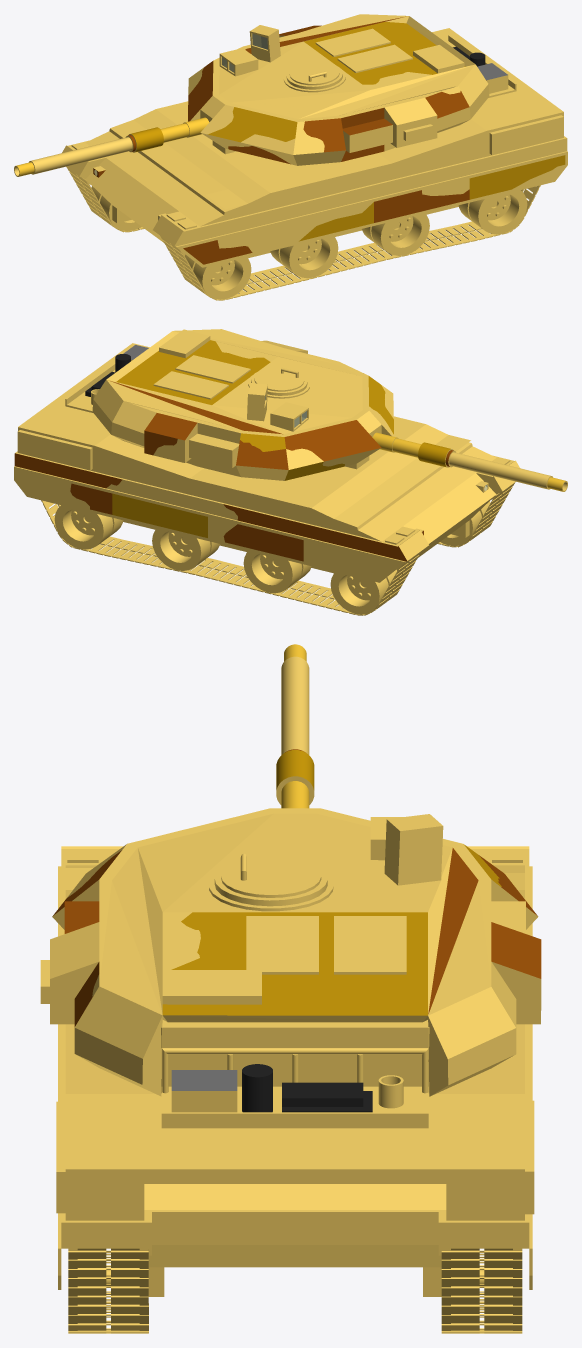
The model's file is tank_project.obj.
3 renders of one model, top to bottom at view 1: azimuth 30°, elevation 25°; view 2: azimuth 150°, elevation 25°; view 3: azimuth 270°, elevation 25°, orthographic. The views are drawn at different scales.
Parts seen in each view (by area): view 1: Mesh155 Model, Mesh156 Model, Mesh139 Group62 ske277_1 Model, Mesh149 Group62 ske277_1 Model, Mesh140 Group62 ske277_1 Model, Mesh146 Group62 ske277_1 Model, Mesh143 Group62 ske277_1 Model, Mesh161 Model, Mesh160 Model, Mesh157 Model, Mesh77 Group1 ske277_1 Model, Mesh154 Group62 ske277_1 Model (+1 smaller); view 2: Mesh155 Model, Mesh156 Model, Mesh62 Group1 ske277_1 Model, Mesh72 Group1 ske277_1 Model, Mesh63 Group1 ske277_1 Model, Mesh69 Group1 ske277_1 Model, Mesh66 Group1 ske277_1 Model, Mesh160 Model, Mesh161 Model, Mesh157 Model, Mesh154 Group62 ske277_1 Model, Mesh77 Group1 ske277_1 Model (+1 smaller); view 3: Mesh156 Model, Mesh155 Model, Mesh161 Model, Mesh160 Model.
Boxes of the visible parts, bbox=[...] form: Mesh155 Model: bbox=[62, 28, 567, 267]; Mesh156 Model: bbox=[14, 14, 516, 176]; Mesh139 Group62 ske277_1 Model: bbox=[205, 221, 509, 300]; Mesh149 Group62 ske277_1 Model: bbox=[458, 190, 527, 234]; Mesh140 Group62 ske277_1 Model: bbox=[361, 213, 429, 255]; Mesh146 Group62 ske277_1 Model: bbox=[270, 236, 338, 278]; Mesh143 Group62 ske277_1 Model: bbox=[185, 254, 251, 299]; Mesh161 Model: bbox=[315, 28, 390, 56]; Mesh160 Model: bbox=[337, 44, 412, 72]; Mesh157 Model: bbox=[219, 48, 258, 76]; Mesh77 Group1 ske277_1 Model: bbox=[67, 167, 112, 225]; Mesh154 Group62 ske277_1 Model: bbox=[160, 235, 205, 293]; Mesh155 Model: bbox=[14, 343, 519, 582]; Mesh156 Model: bbox=[65, 329, 567, 491]; Mesh62 Group1 ske277_1 Model: bbox=[72, 536, 387, 615]; Mesh72 Group1 ske277_1 Model: bbox=[54, 505, 123, 549]; Mesh63 Group1 ske277_1 Model: bbox=[152, 528, 220, 570]; Mesh69 Group1 ske277_1 Model: bbox=[243, 551, 311, 593]; Mesh66 Group1 ske277_1 Model: bbox=[330, 569, 396, 614]; Mesh160 Model: bbox=[175, 355, 250, 383]; Mesh161 Model: bbox=[153, 371, 228, 399]; Mesh157 Model: bbox=[270, 402, 308, 431]; Mesh154 Group62 ske277_1 Model: bbox=[469, 482, 514, 540]; Mesh77 Group1 ske277_1 Model: bbox=[376, 551, 421, 608]; Mesh156 Model: bbox=[40, 644, 541, 1128]; Mesh155 Model: bbox=[56, 846, 534, 1296]; Mesh161 Model: bbox=[334, 916, 406, 974]; Mesh160 Model: bbox=[246, 916, 318, 974].
Bounding box in the file's own units: 90.75 × 31.51 × 40.02.
